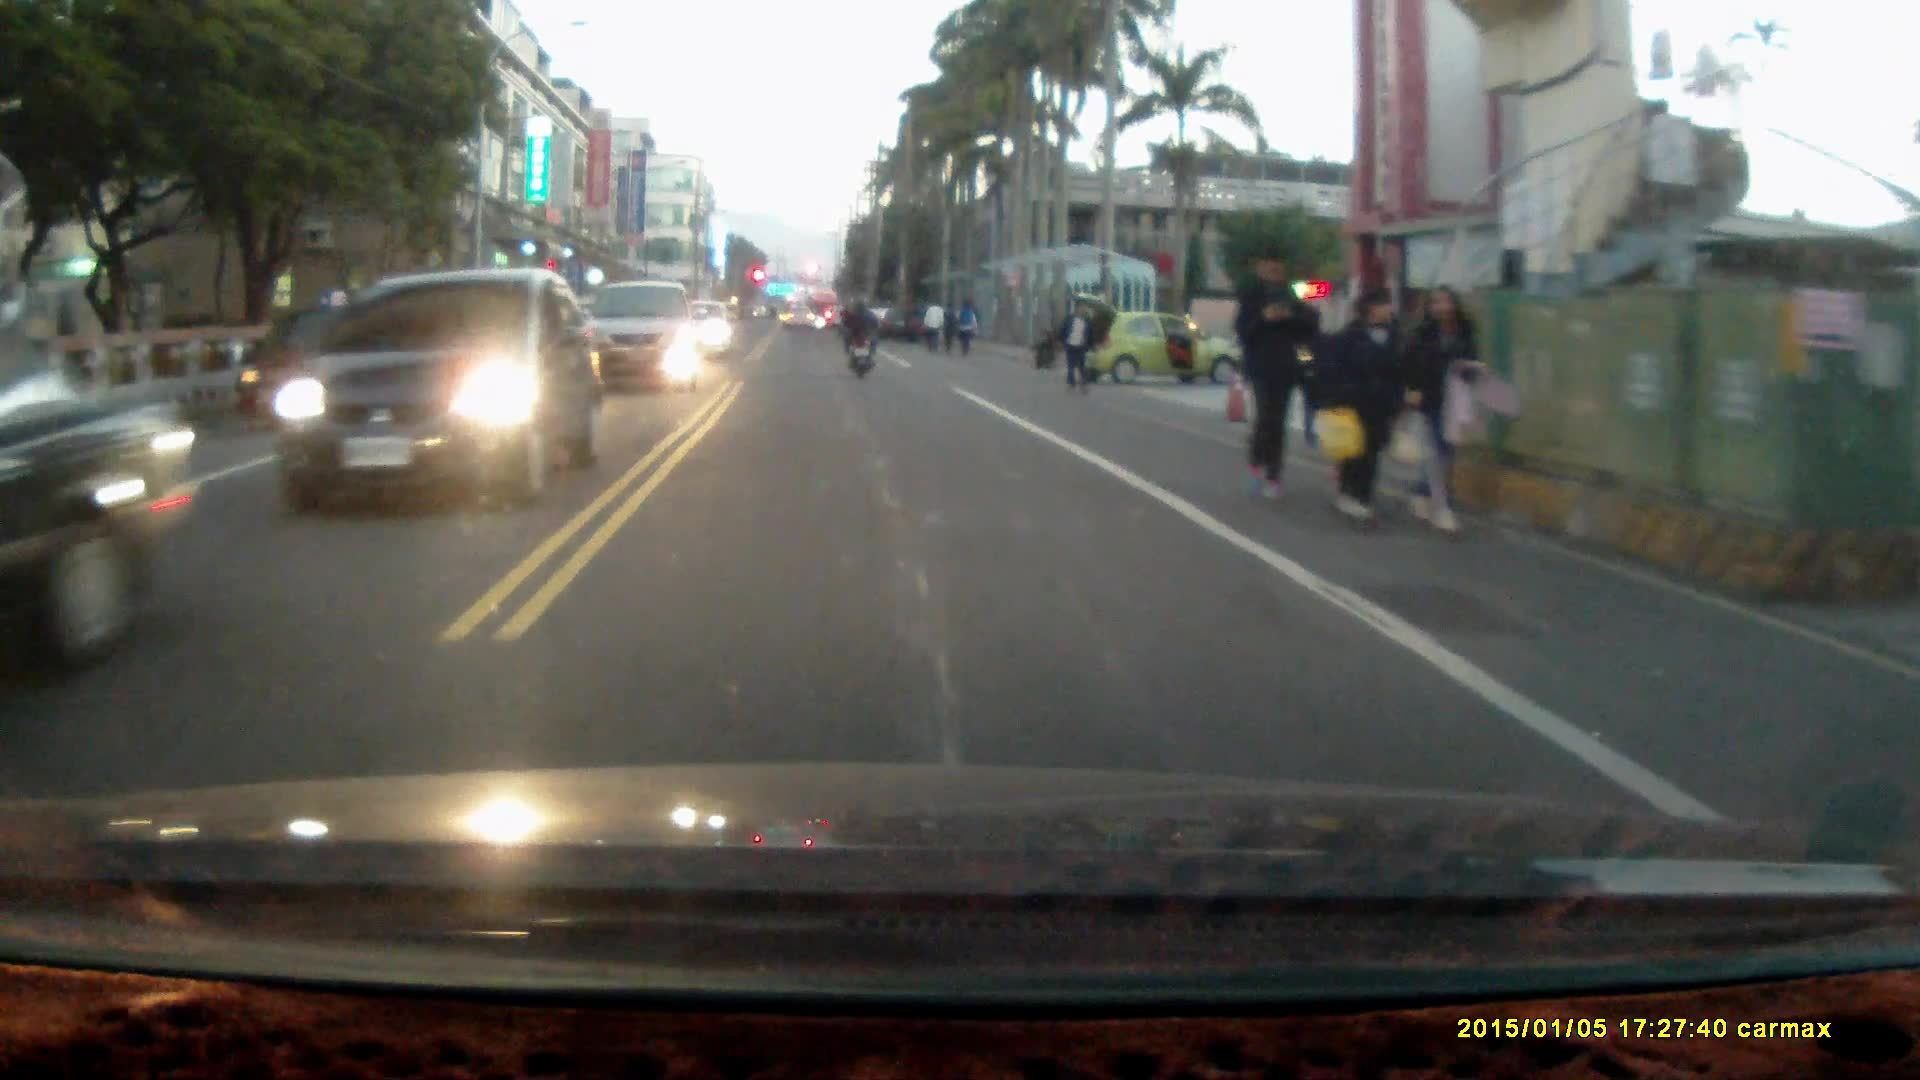pedestrian: (1310, 282, 1402, 528), (1401, 276, 1484, 537), (1234, 244, 1315, 506), (1057, 294, 1095, 395), (1027, 323, 1058, 369)
rider: (838, 293, 879, 381)
vehicle: (278, 267, 601, 510), (1069, 287, 1234, 381), (572, 277, 705, 389)
